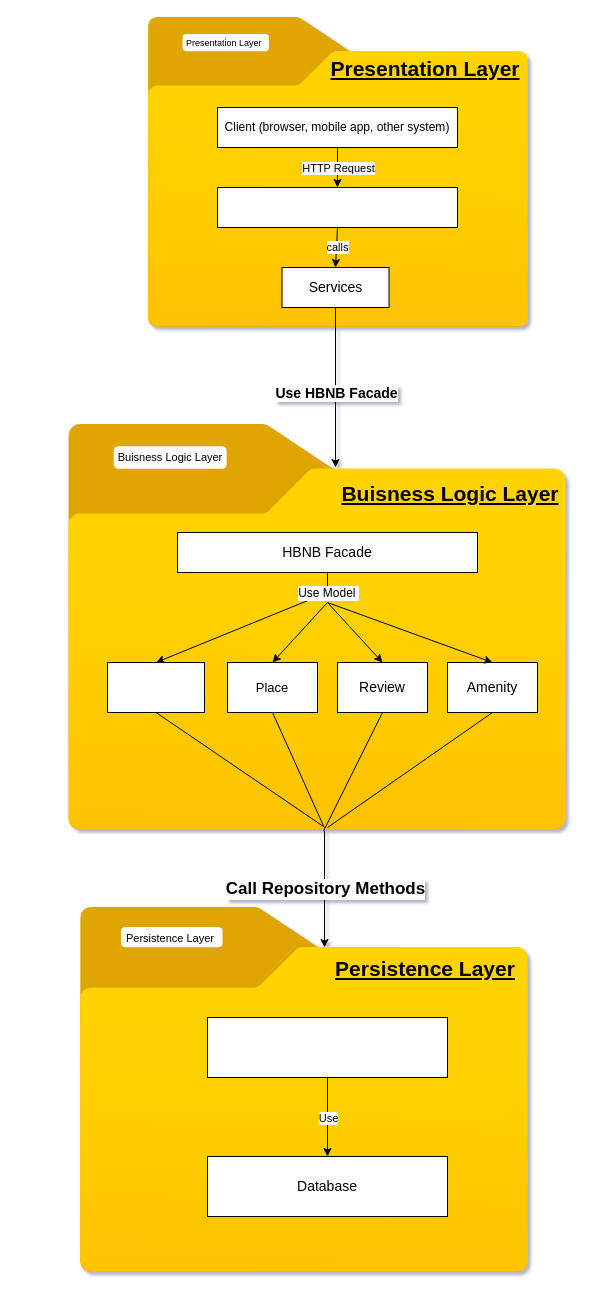
Image size: 590x1296. Some labels were removed from this diagram. Here are the shapes that lost their labels. From the top down, the centre of each, then its label:
At point (337, 207): "API Endpoints".
At point (155, 687): "User".
At point (327, 1047): "Repository / DAO".
